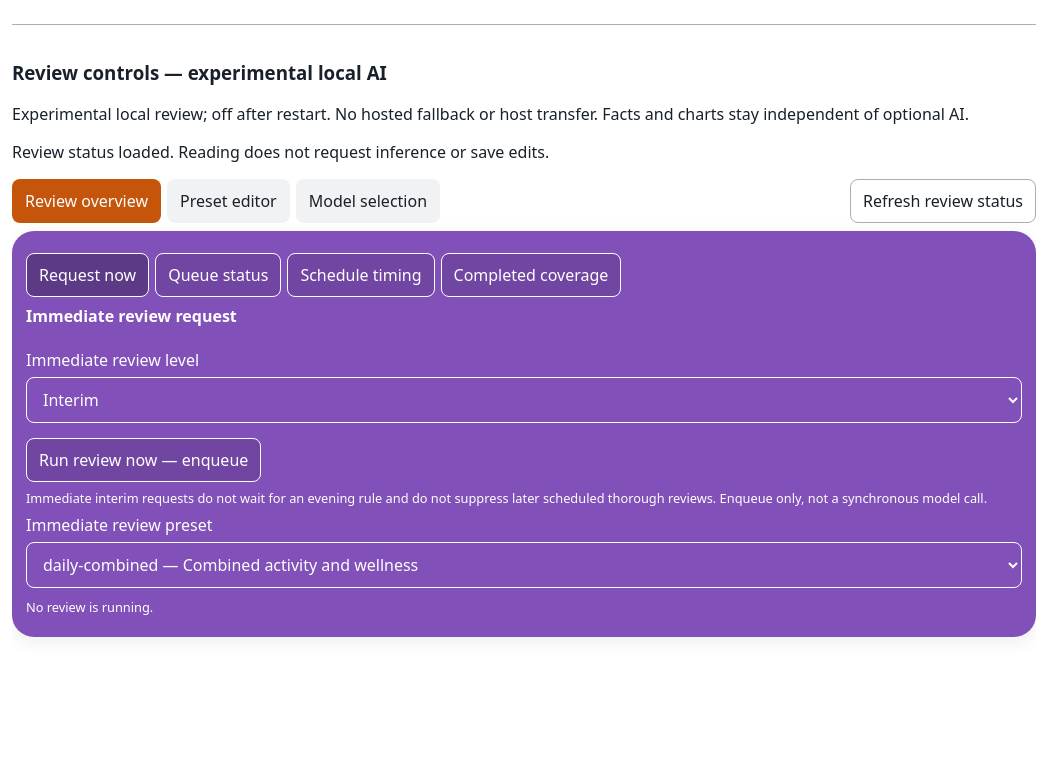
Scenario: explicit, separate local review consent › provides an explicit immediate disable, without inference or silently retaining correction
Expected: the text "Review status loaded. Reading does not request inference or save edits." is shown, [12,141,549,163]
Click the button "Model selection". click: coordinates (368, 201)
box: [296,179,440,223]
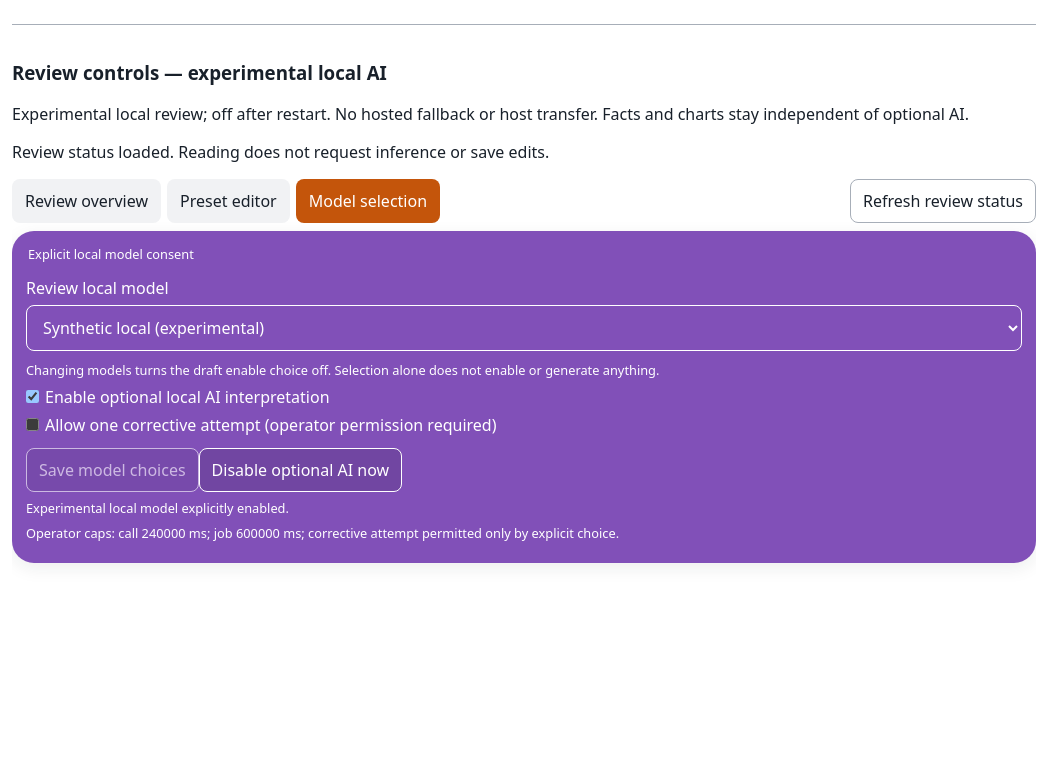
Click the button "Disable optional AI now". click: coordinates (300, 470)
box: [199,448,402,492]
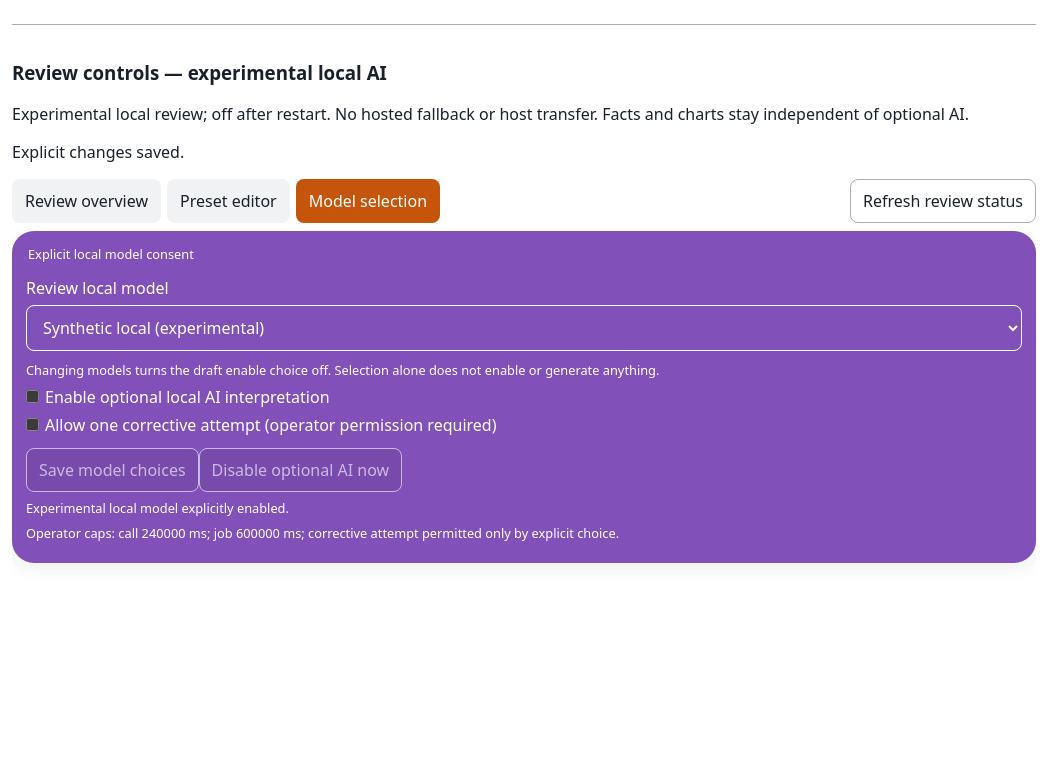
Now the checkbox labelled "Enable optional local AI interpretation" is not checked, box [26,390,39,403]
